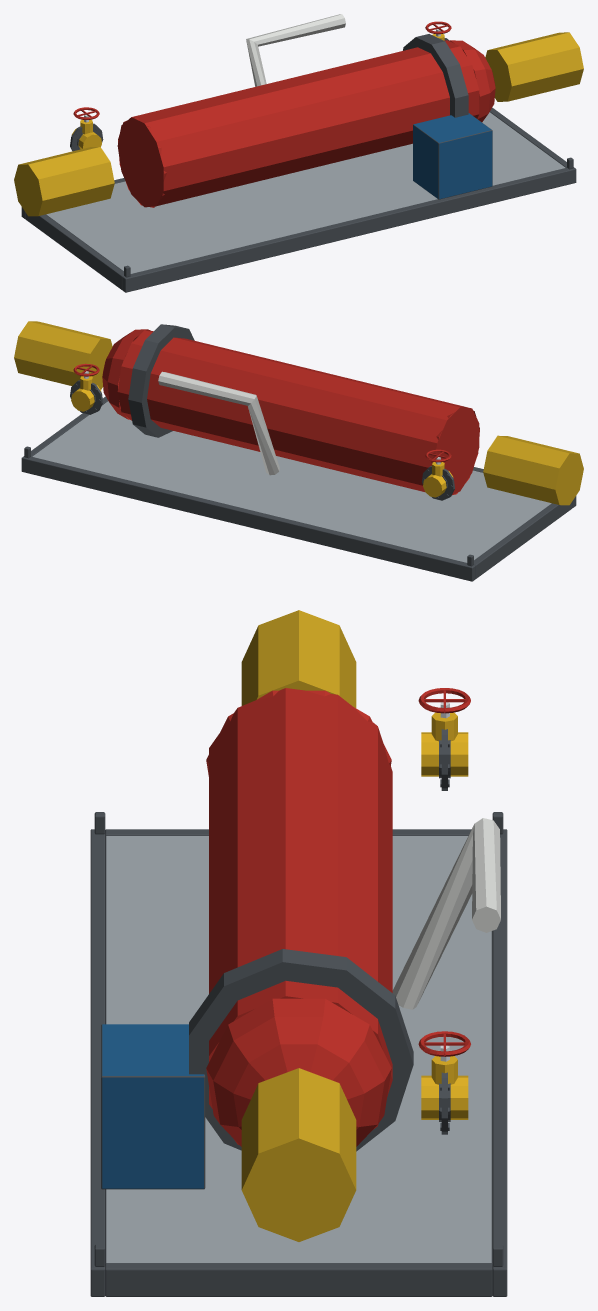
File: mid_pig_launcher.glb
3 views of the same model, one above another, from view 1: azimuth 30°, elevation 25°; view 2: azimuth 150°, elevation 25°; view 3: azimuth 270°, elevation 25° (orthographic). The views are drawn at different scales.
Parts seen in each view (by area): view 1: mid_pig_launcher; view 2: mid_pig_launcher; view 3: mid_pig_launcher.
Boxes of the visible parts, x1,y1,x2,y2 form: mid_pig_launcher: [14, 14, 583, 292]; mid_pig_launcher: [14, 321, 583, 581]; mid_pig_launcher: [90, 610, 507, 1296].
Size of the model in its own units: 12 by 2.74 by 4.
